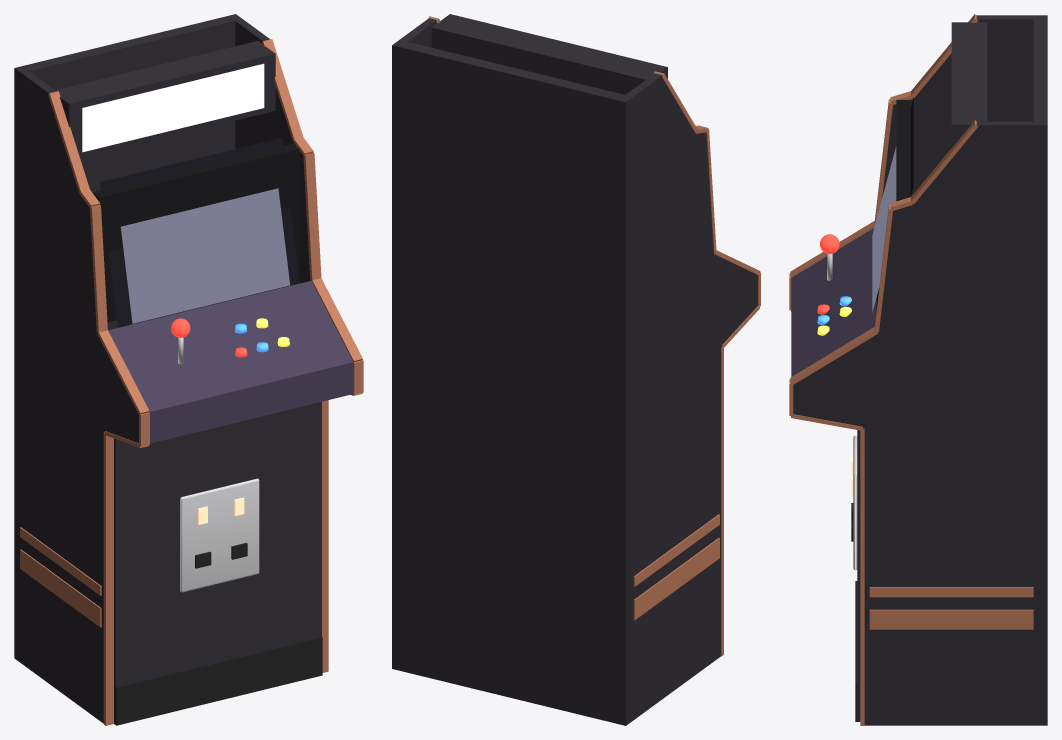
File: cabinet.glb
The picture shows the model from 3 angles, left to right: view 1: azimuth 30°, elevation 25°; view 2: azimuth 150°, elevation 25°; view 3: azimuth 270°, elevation 25°; orthographic projection. The views are drawn at different scales.
Parts seen in each view (by area): view 1: SideL, Front, ControlPanel, Screen, Back, BezelBack, Marquee, Kick, MarqueeBox, CoinDoor, ScreenGlass, SideR (+10 smaller); view 2: Back, SideL, MarqueeBox, SideR, Stripe-10, Stripe-11, TMold-1.006; view 3: SideR, SideL, ControlPanel, MarqueeBox, Stripe10, Stripe11, Back, Screen, BezelBack, TMold1.006, Front, TMold1.003 (+7 smaller).
Boxes of the visible parts, box(x1,y1,x2,y2) form: SideL: box(14, 66, 138, 723); Front: box(114, 402, 321, 724); ControlPanel: box(108, 281, 353, 443); Screen: box(120, 188, 289, 323); Back: box(22, 16, 235, 330); BezelBack: box(92, 144, 299, 322); Marquee: box(82, 63, 264, 152); Kick: box(115, 637, 322, 725); MarqueeBox: box(55, 41, 275, 158); CoinDoor: box(180, 478, 259, 592); ScreenGlass: box(100, 138, 299, 327); SideR: box(228, 14, 310, 283); Back: box(400, 42, 624, 723); SideL: box(618, 73, 757, 725); MarqueeBox: box(431, 14, 667, 94); SideR: box(392, 18, 436, 670); Stripe-10: box(633, 538, 719, 620); Stripe-11: box(633, 514, 719, 586); TMold-1.006: box(721, 346, 723, 656); SideR: box(793, 121, 1047, 725); SideL: box(882, 15, 1047, 196); ControlPanel: box(791, 228, 876, 376); MarqueeBox: box(951, 22, 987, 147); Stripe10: box(869, 609, 1033, 629); Stripe11: box(869, 587, 1033, 597); Back: box(1033, 19, 1047, 121); Screen: box(872, 146, 896, 312); BezelBack: box(896, 100, 910, 201); TMold1.006: box(860, 428, 864, 725); Front: box(857, 430, 860, 721); TMold1.003: box(790, 327, 877, 385).
Size of the model in its own units: 0.74 by 1.86 by 0.726.
